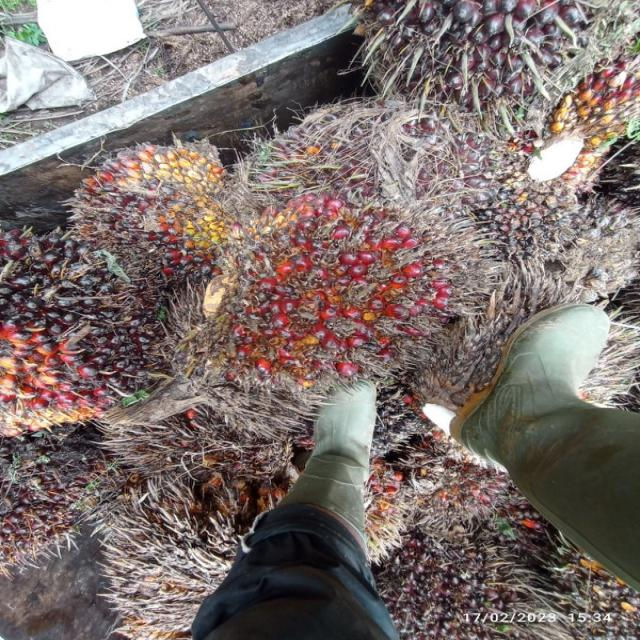fraksi 00: (0, 183, 174, 441)
fraksi 1: (32, 128, 259, 289)
fraksi 3: (169, 150, 483, 427)
